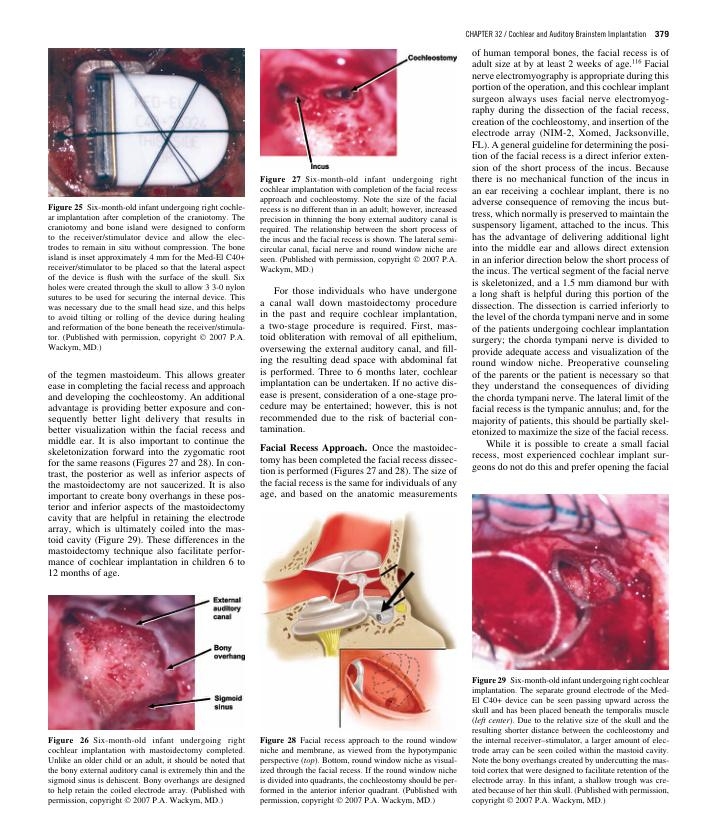caption: (47, 201, 246, 353), (471, 676, 670, 806), (259, 175, 458, 275), (259, 736, 459, 806), (47, 736, 246, 806)
header: (465, 29, 647, 39)
image: (258, 505, 460, 734), (472, 494, 669, 670), (48, 47, 245, 197), (48, 594, 247, 730), (260, 49, 460, 172)
text: (471, 48, 670, 474), (259, 286, 458, 500), (46, 369, 246, 579)
